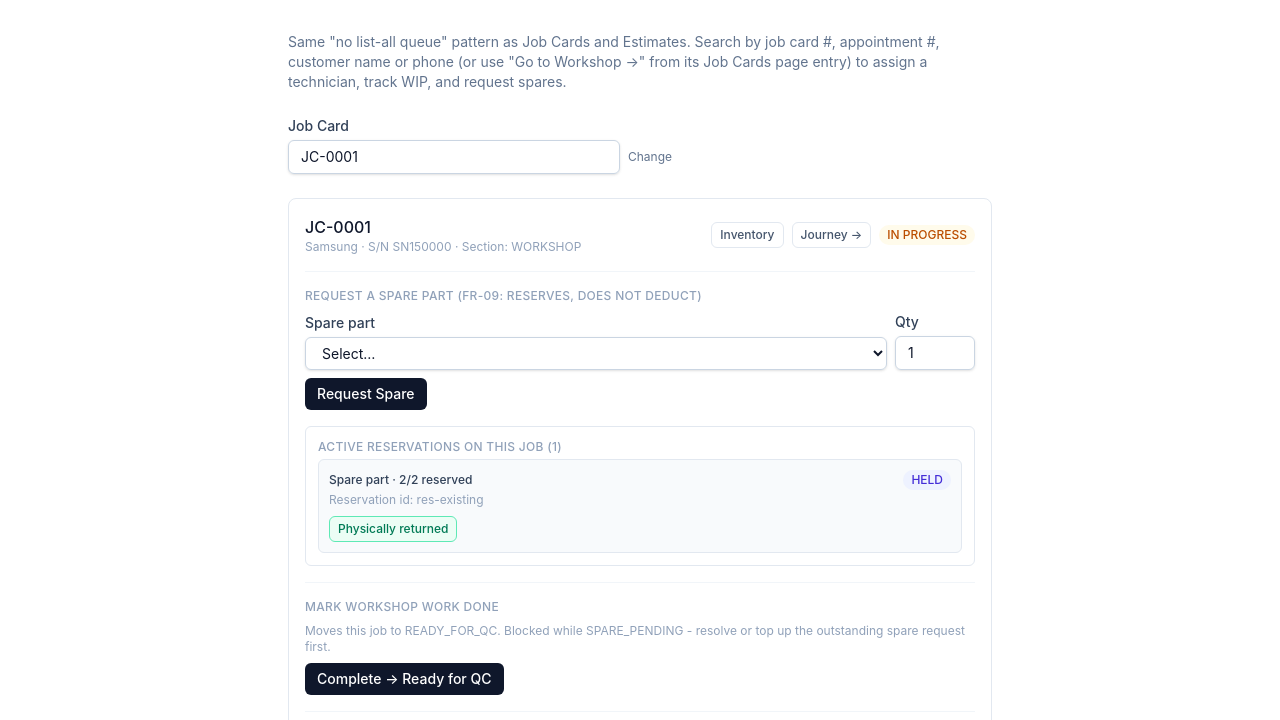
Scenario: WorkshopPage - confirm before requesting the same spare part again › submits nothing when the technician clicks No, cancel
Select "SP-001 — Compressor" in the dropdown labelled "Spare part" at (596, 354), box [305,337,887,370]
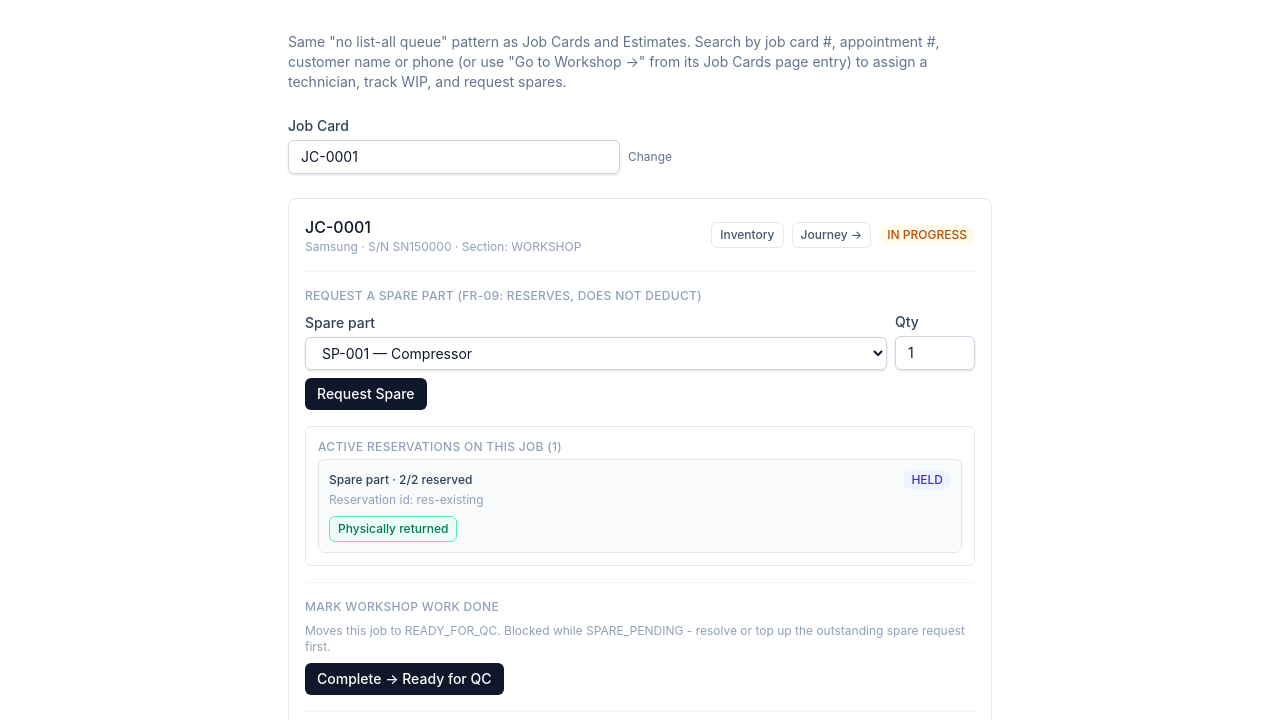
Click the button "Request Spare" at (366, 394), box [305,378,427,410]
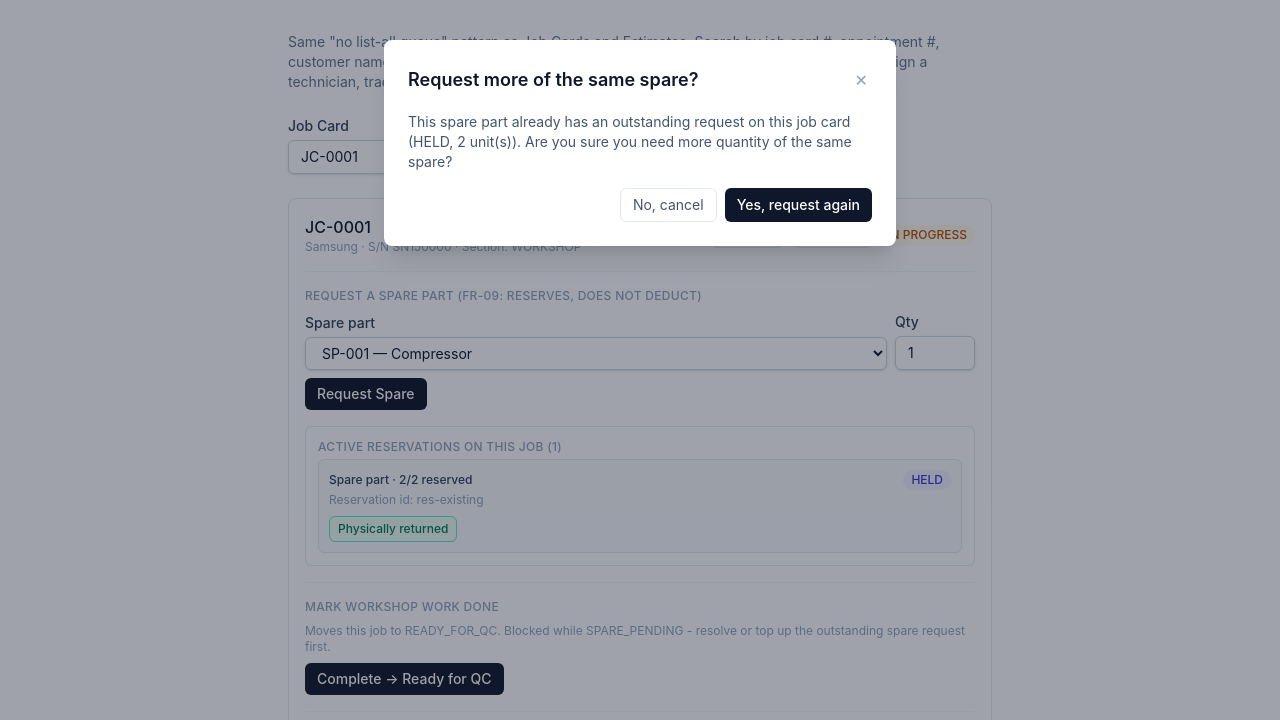
Now the heading "Request more of the same spare?" is shown, box [408,66,698,94]
Click the button "No, cancel" at (668, 205), box [620,188,717,222]
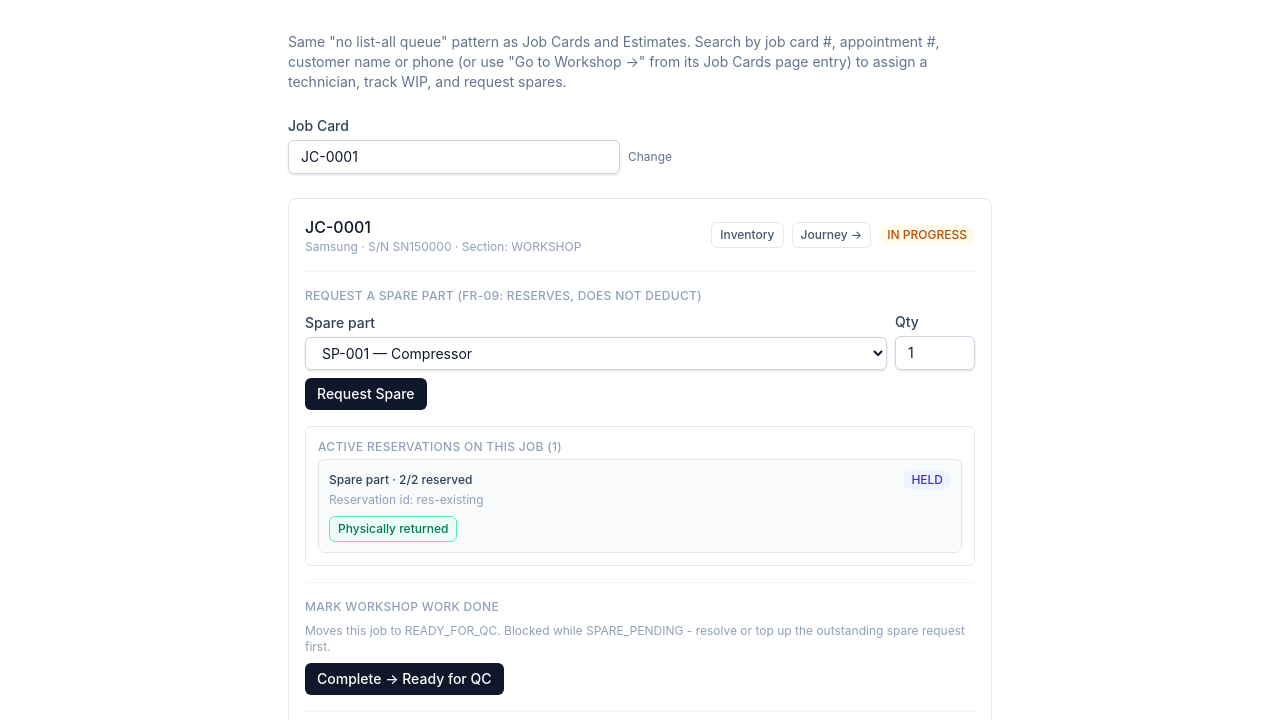
Now the heading "Request more of the same spare?" is gone
